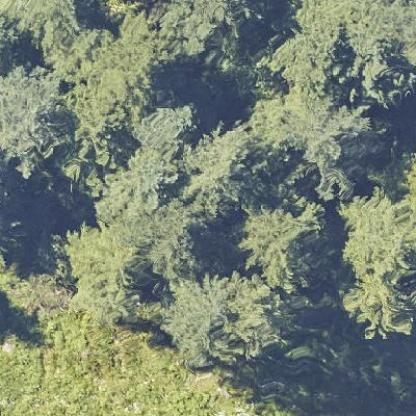tree-top: (159, 278, 294, 369), (337, 192, 415, 342), (272, 94, 389, 193), (47, 40, 158, 134), (63, 218, 153, 324), (182, 127, 270, 215), (240, 199, 336, 276), (149, 2, 255, 69), (0, 68, 64, 177), (340, 31, 411, 105)
